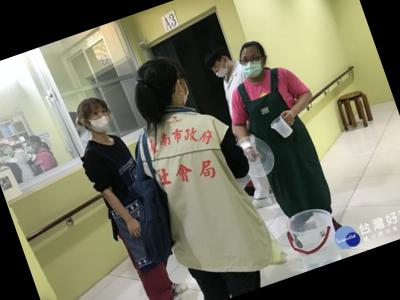mask_weared_incorrect: (210, 59, 232, 80)
with_mask: (82, 104, 116, 136), (238, 49, 268, 80), (169, 71, 194, 107), (25, 141, 40, 157), (1, 143, 16, 157)
